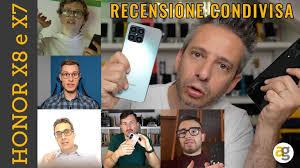0: (181, 27, 236, 105), (179, 121, 203, 155), (63, 3, 86, 28), (60, 63, 79, 91), (120, 116, 139, 141), (58, 120, 73, 149)
1: (36, 11, 52, 28), (43, 153, 56, 168)
Hand: (253, 76, 300, 130), (105, 54, 130, 111), (80, 39, 100, 56), (117, 142, 136, 157), (139, 133, 148, 150)
Smartphone: (249, 36, 300, 106), (113, 24, 160, 99), (86, 33, 101, 53), (126, 133, 140, 151)
